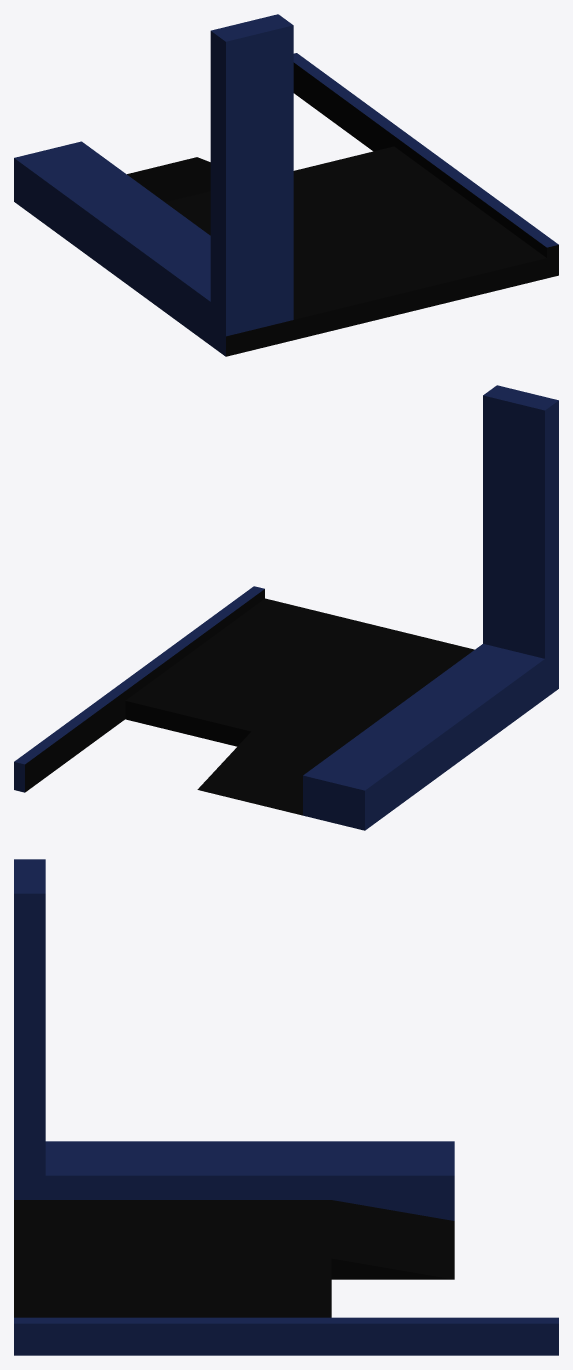
File: ramp_002.gltf
3 renders of one model, top to bottom at view 1: azimuth 30°, elevation 25°; view 2: azimuth 150°, elevation 25°; view 3: azimuth 270°, elevation 25°, orthographic. The views are drawn at different scales.
Visible parts, largest first — view 1: ramp.002; view 2: ramp.002; view 3: ramp.002.
Part boxes in pixels (box(x1,y1,x2,y2)): ramp.002: box(14, 14, 558, 356); ramp.002: box(14, 385, 558, 830); ramp.002: box(14, 859, 558, 1355).
Bounding box in the file's own units: 11.05 × 9.99 × 15.06.
